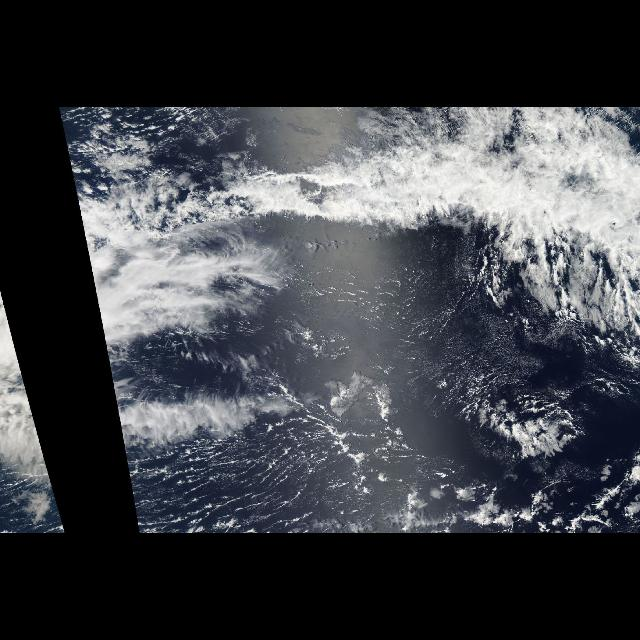Fish: (59, 113, 636, 324)
Sugar: (131, 218, 551, 532)
